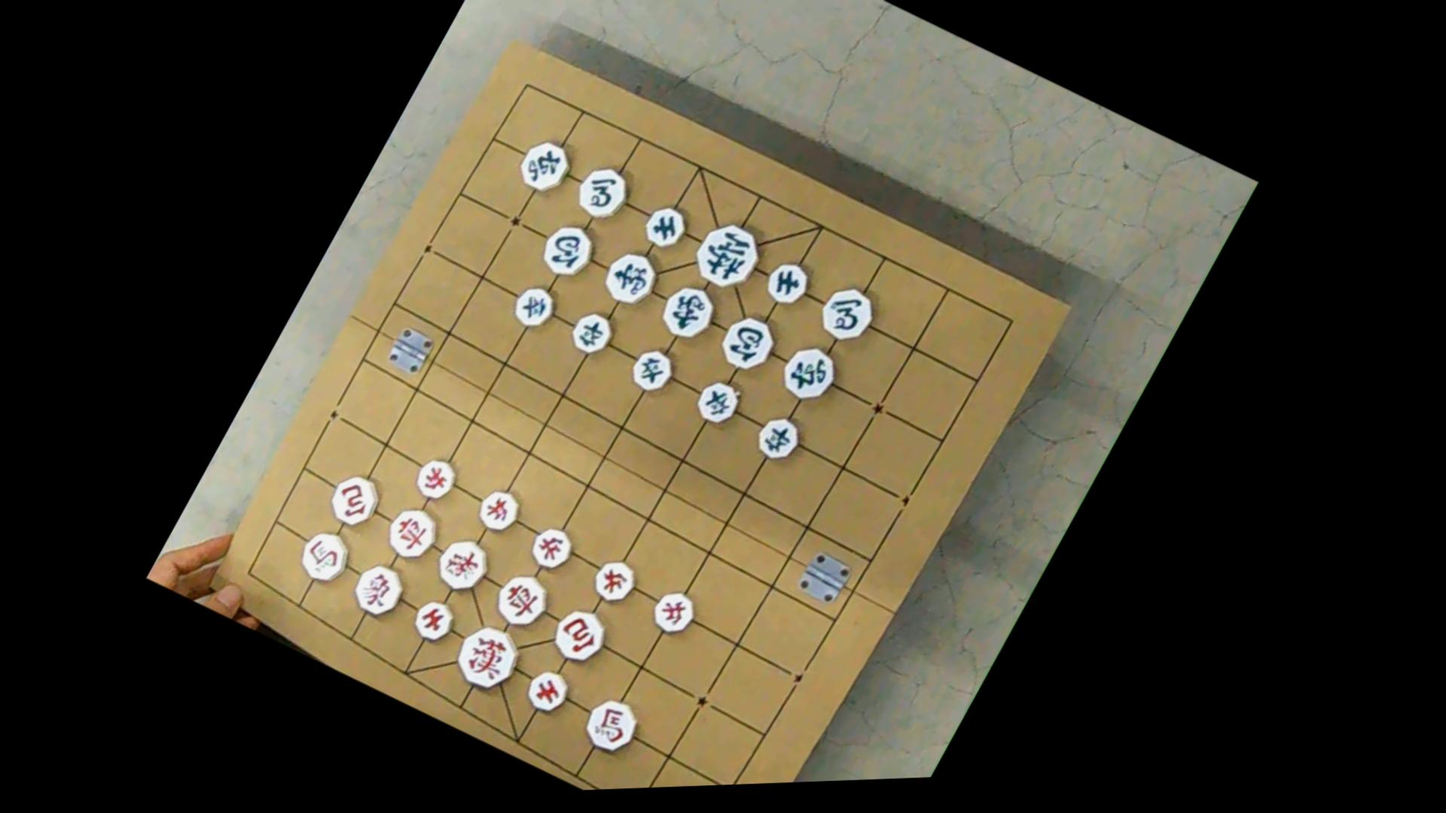cha_green: (774, 339, 844, 407), (513, 134, 578, 198)
cha_red: (488, 567, 557, 634), (380, 501, 444, 565)
jol_green: (750, 412, 806, 466), (625, 343, 679, 397), (691, 375, 746, 428), (508, 280, 561, 333), (566, 307, 618, 358)
jol_red: (587, 554, 642, 607), (647, 585, 701, 638), (471, 484, 526, 536), (525, 522, 578, 574), (410, 453, 461, 505)
ma_green: (813, 279, 882, 347), (569, 159, 636, 225)
ma_red: (577, 691, 646, 759), (293, 525, 357, 587)
po_green: (713, 308, 782, 376), (535, 216, 602, 282)
po_red: (546, 601, 614, 668), (322, 468, 386, 531)
sa_green: (761, 256, 815, 309), (639, 201, 692, 252)
sa_red: (520, 665, 575, 717), (407, 594, 460, 646)
sang_green: (654, 277, 724, 345), (597, 244, 666, 311)
sang_red: (429, 532, 495, 597), (346, 558, 410, 622)
wang_green: (685, 213, 770, 296)
wang_red: (446, 617, 528, 697)
